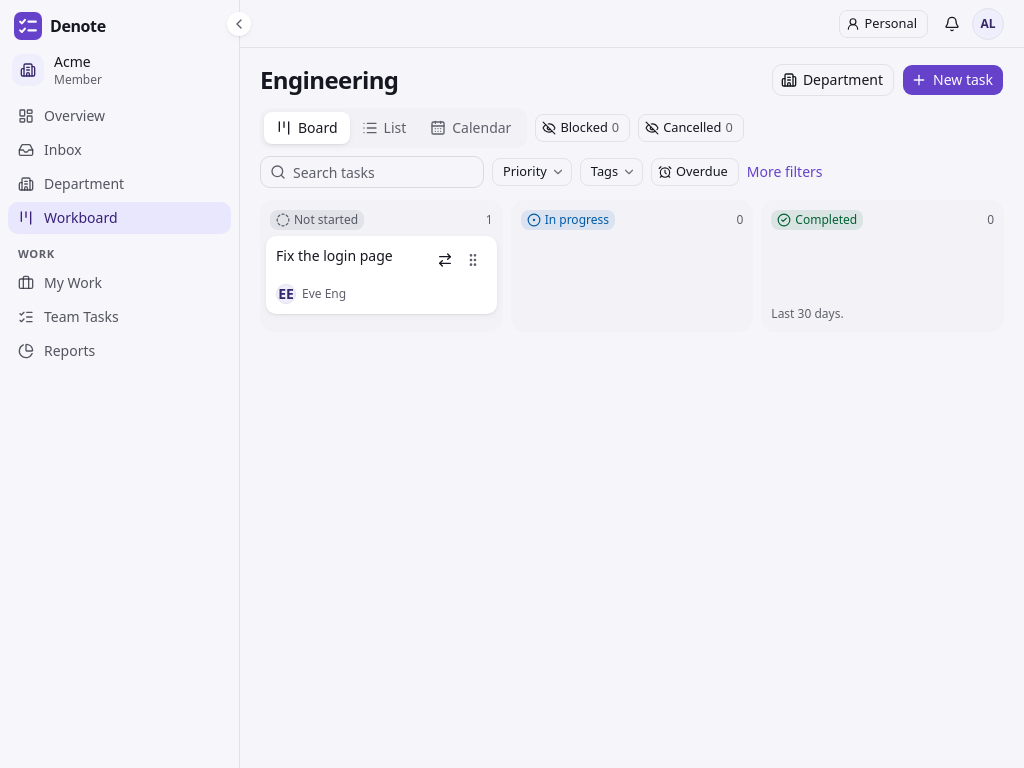
Test: department board › puts the card back and explains when the server refuses
This screenshot has width=1024, height=768.
Click the button named "Move “Fix the login page” to another column": (445, 260) 431,246 -> 459,274
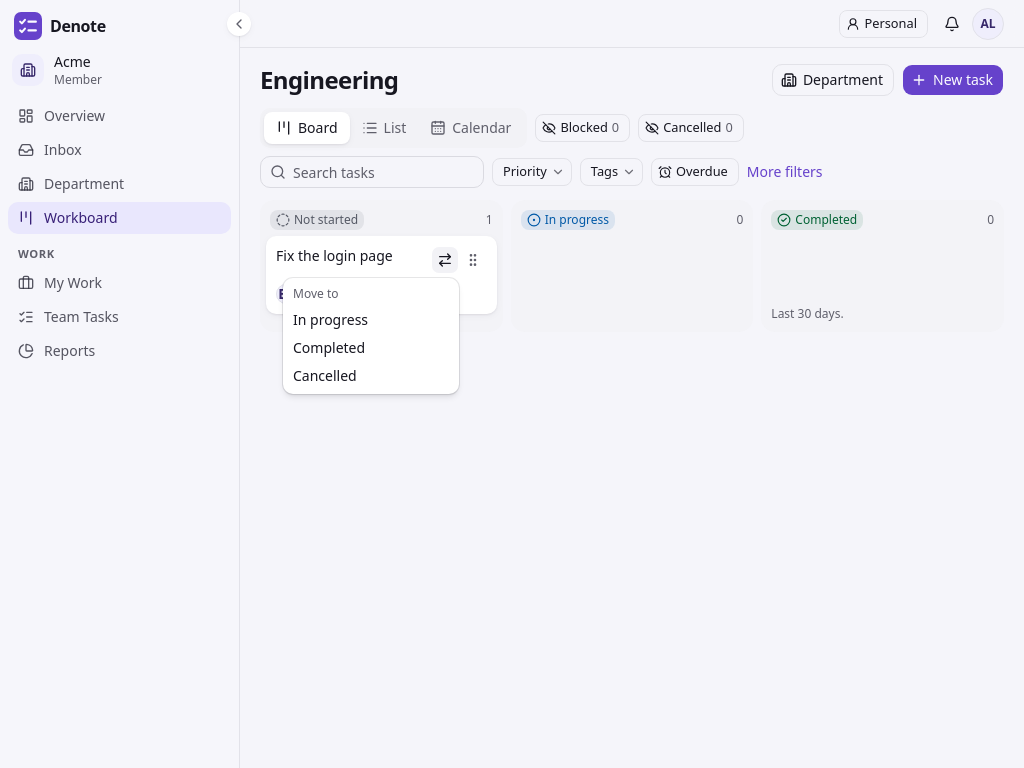
Click the menu item "Completed": (329, 348) 293,338 -> 365,357
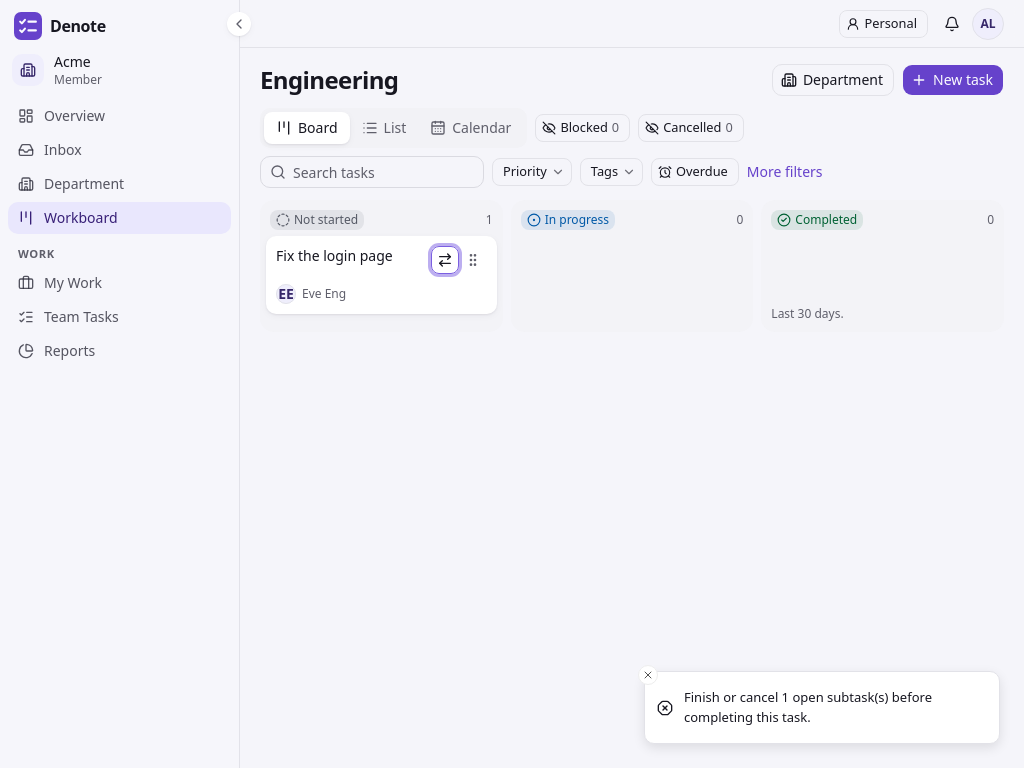
expect the element named "Not started, 1 tasks" is shown: met, box 260,200 -> 503,332
expect the text "Finish or cancel 1 open subtask" is shown: met, box 684,688 -> 932,726
